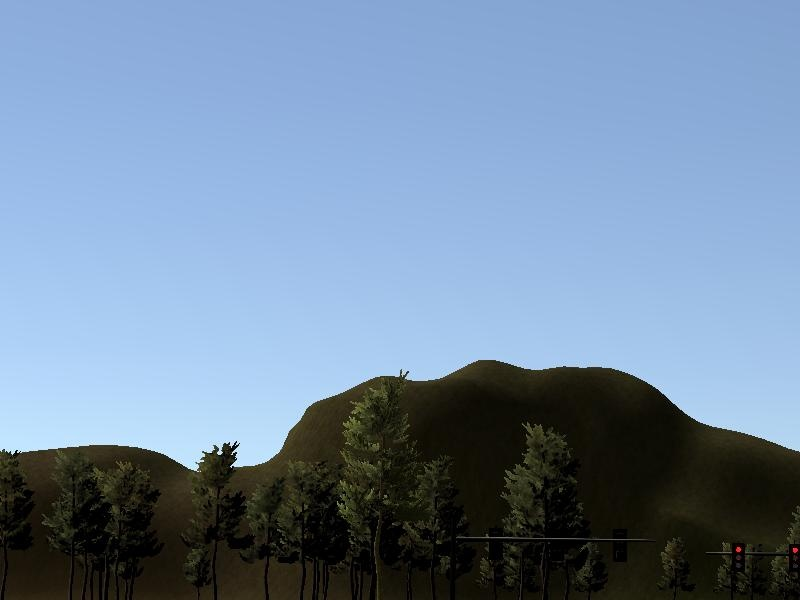RED: (722, 536, 751, 584)
